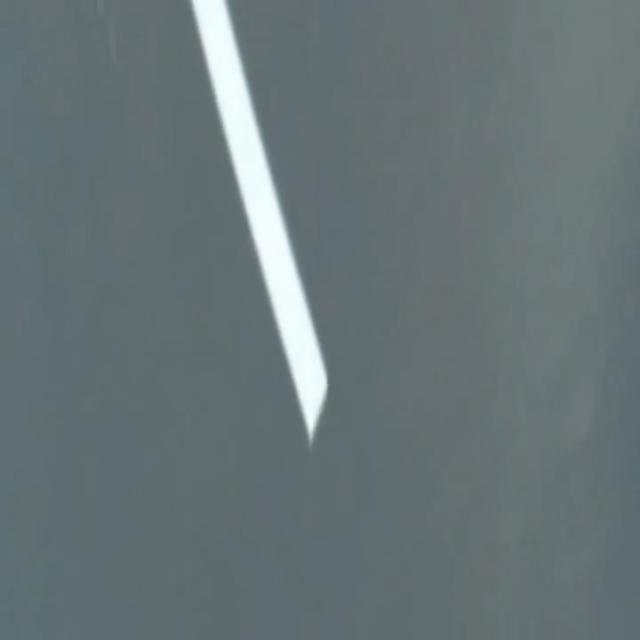center: (190, 0, 326, 444)
